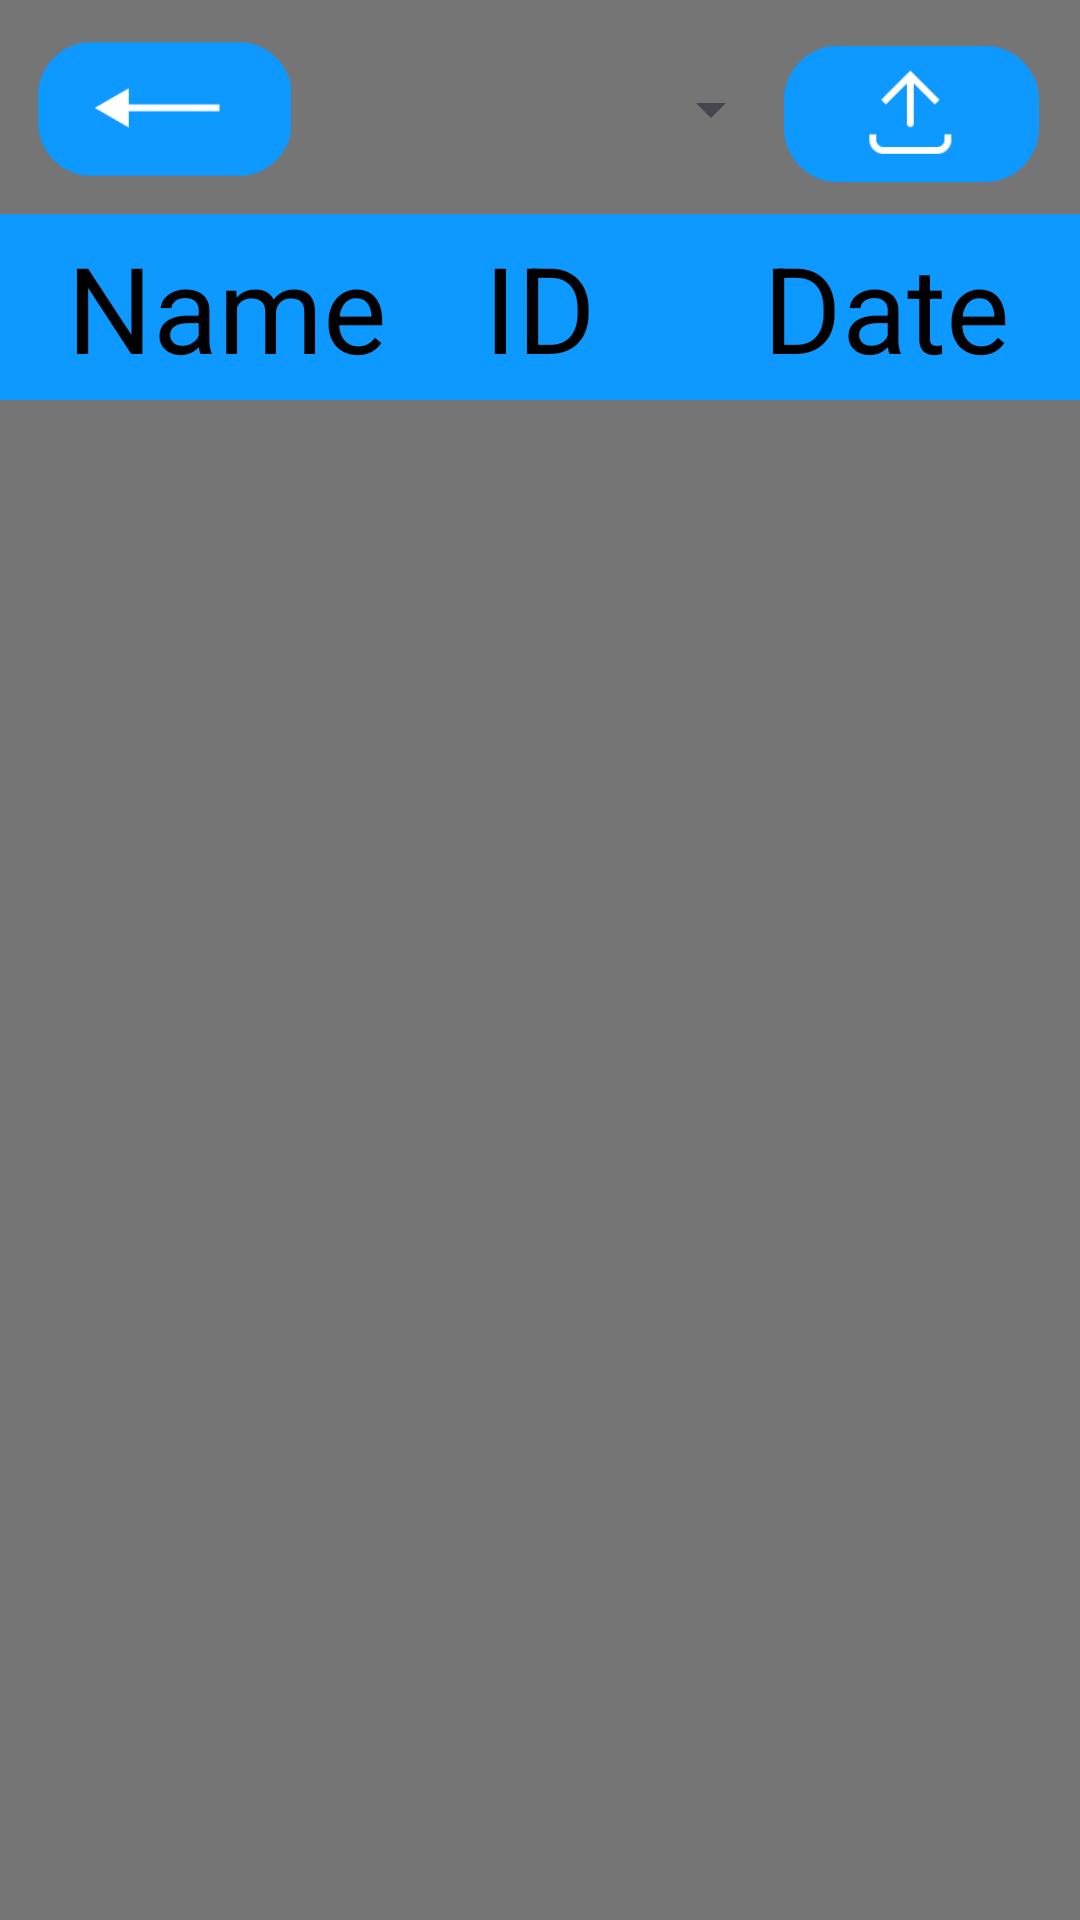

Icons on this 1080*1920 Android screen, each with its box as rect(x1, y1, x2, y2):
Back Button: rect(38, 42, 291, 176)
